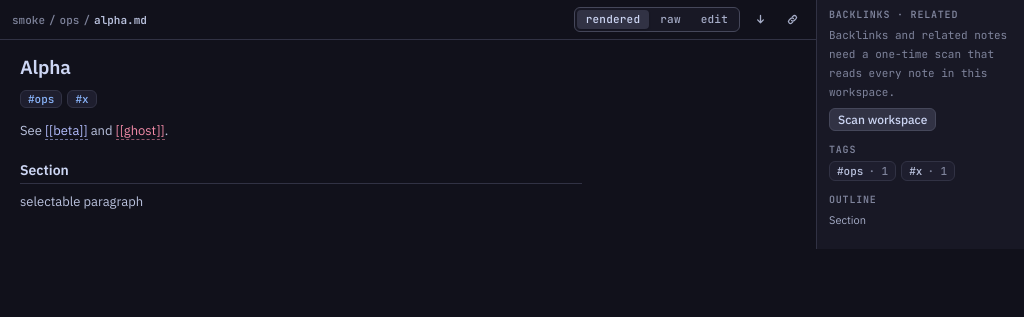
Scenario: backlinks and related notes appear after the explicit on-demand scan, never eagerly
Expected: the heading "Alpha" is shown, x1=20 y1=55 x2=71 y2=79
Click the button "Scan workspace" at (883, 120), box x1=829 y1=108 x2=936 y2=131
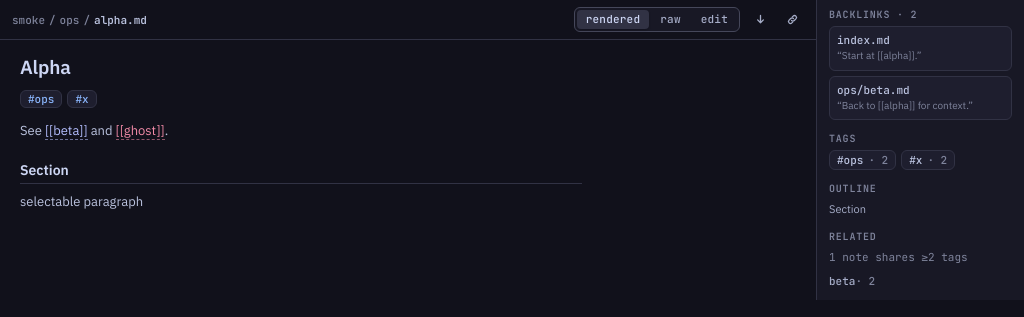
Result: the text "1 note shares ≥2 tags" is shown at x1=829 y1=250 x2=968 y2=264
